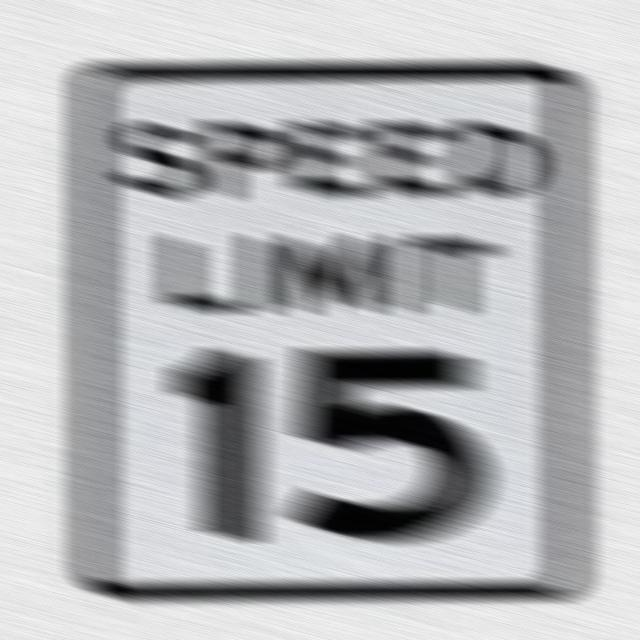speedLimit15: (70, 66, 583, 585)
